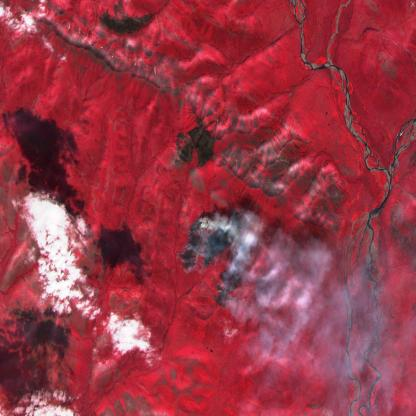fire: (182, 198, 242, 278), (207, 284, 243, 322)
